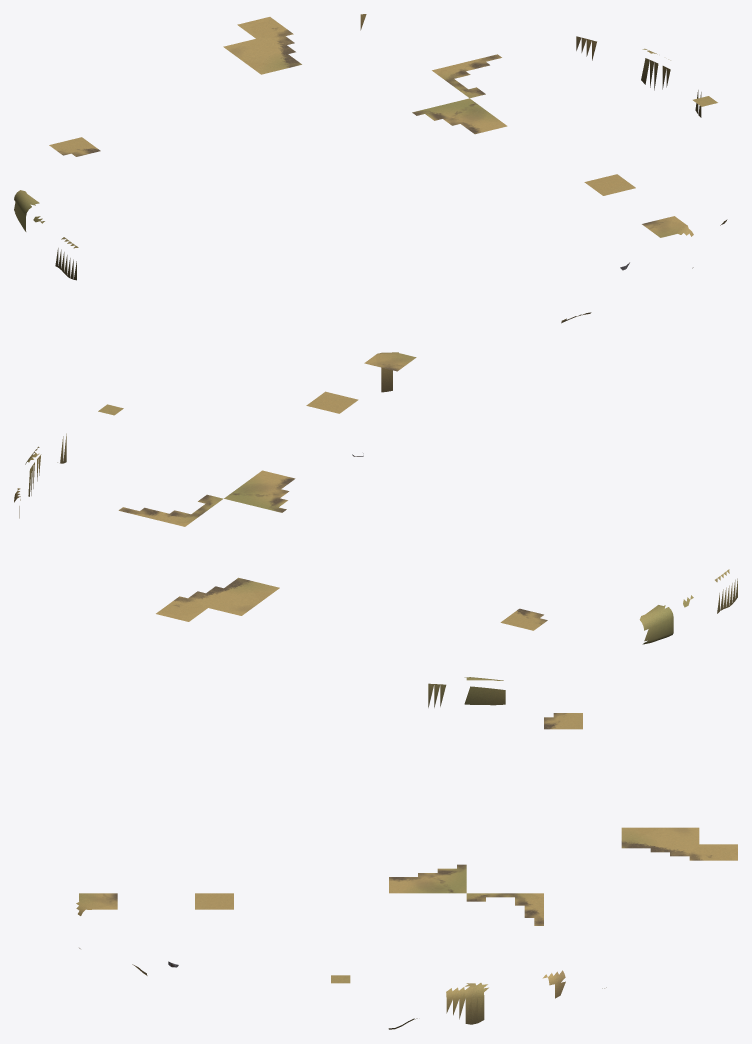
3 renders of one model, top to bottom at view 1: azimuth 30°, elevation 25°; view 2: azimuth 150°, elevation 25°; view 3: azimuth 270°, elevation 25°, orthographic.
Parts seen in each view (by area): view 1: Grass_0_3_0, Grass_1_0_0, Grass_2_1_0, Grass_2_-4_0_000, Grass_0_4_0_100, Grass_2_-3_0_010, Grass_-4_2_0_100, Grass_-5_1_0_000; view 2: Grass_0_3_0, Grass_1_0_0, Grass_2_1_0, Grass_-5_1_0_000, Grass_2_-4_0_000, Grass_2_-3_0_010, Grass_0_4_0_100, Grass_-4_2_0_100; view 3: Grass_0_3_0, Grass_1_0_0, Grass_2_1_0, Grass_-5_1_0_000, Grass_2_-4_0_000, Grass_0_4_0_100, Grass_2_-3_0_010, Grass_-4_2_0_100.
Boxes of the visible parts, bbox=[...] form: Grass_0_3_0: bbox=[223, 31, 301, 74]; Grass_1_0_0: bbox=[412, 98, 507, 134]; Grass_2_1_0: bbox=[432, 54, 501, 98]; Grass_2_-4_0_000: bbox=[642, 216, 693, 237]; Grass_0_4_0_100: bbox=[237, 17, 288, 38]; Grass_2_-3_0_010: bbox=[584, 174, 635, 195]; Grass_-4_2_0_100: bbox=[49, 137, 100, 156]; Grass_-5_1_0_000: bbox=[14, 190, 39, 231]; Grass_0_3_0: bbox=[175, 577, 279, 615]; Grass_1_0_0: bbox=[224, 470, 295, 512]; Grass_2_1_0: bbox=[118, 494, 223, 526]; Grass_-5_1_0_000: bbox=[639, 605, 673, 644]; Grass_2_-4_0_000: bbox=[364, 352, 416, 391]; Grass_2_-3_0_010: bbox=[306, 391, 358, 413]; Grass_0_4_0_100: bbox=[156, 600, 207, 621]; Grass_-4_2_0_100: bbox=[500, 608, 547, 630]; Grass_0_3_0: bbox=[621, 827, 699, 860]; Grass_1_0_0: bbox=[389, 864, 466, 893]; Grass_2_1_0: bbox=[466, 893, 543, 925]; Grass_-5_1_0_000: bbox=[464, 677, 505, 705]; Grass_2_-4_0_000: bbox=[76, 893, 117, 915]; Grass_0_4_0_100: bbox=[699, 844, 737, 860]; Grass_2_-3_0_010: bbox=[195, 893, 233, 909]; Grass_-4_2_0_100: bbox=[544, 713, 582, 729].
Bounding box in the file's own units: 629 × 62.48 × 598.
Materials: 24 (24 with a texture image).
